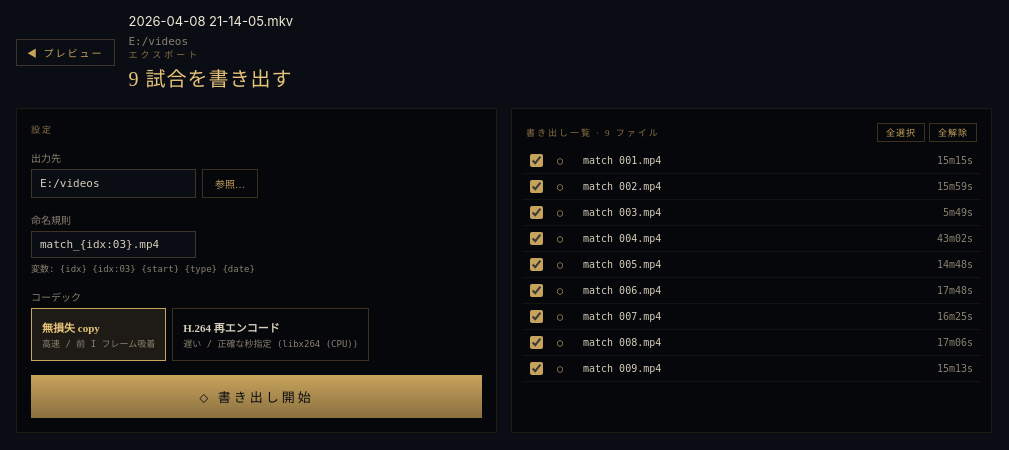
it: ExportScreen (Phase 4 #466) › 「全解除」 unchecks every match; 「全選択」 re-checks all
The image size is (1009, 450).
expect the text "9 試合を書き出す" is shown: met, box [128,63,293,92]
Click the button with aria-label "deselect all matches": click(953, 132) [929,123,977,142]
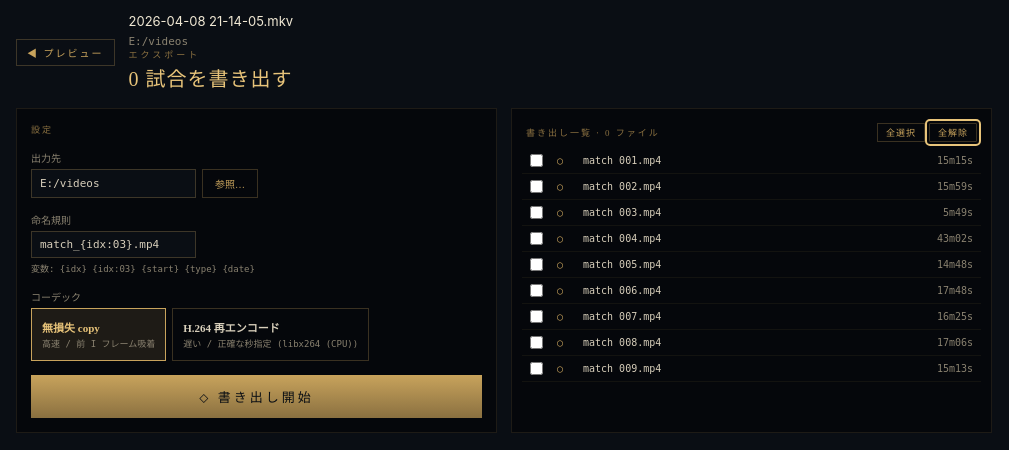
expect the text "0 試合を書き出す" is shown: met, box [128,63,293,92]
expect the checkbox named "include match 1" is not checked: met, box [530,154,543,167]
expect the checkbox named "include match 2" is not checked: met, box [530,180,543,193]
Click the button with aria-label "select all matches": click(901, 132) [877,123,925,142]
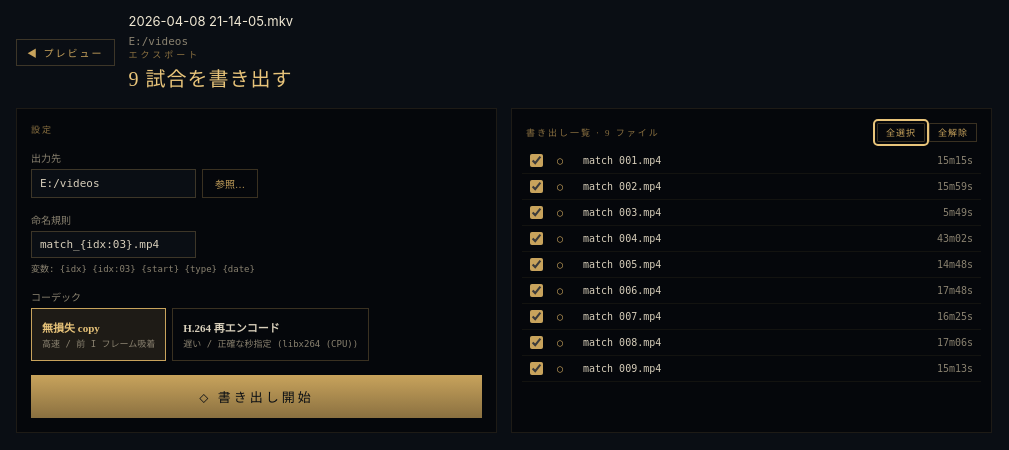
expect the text "9 試合を書き出す" is shown: met, box [128,63,293,92]
